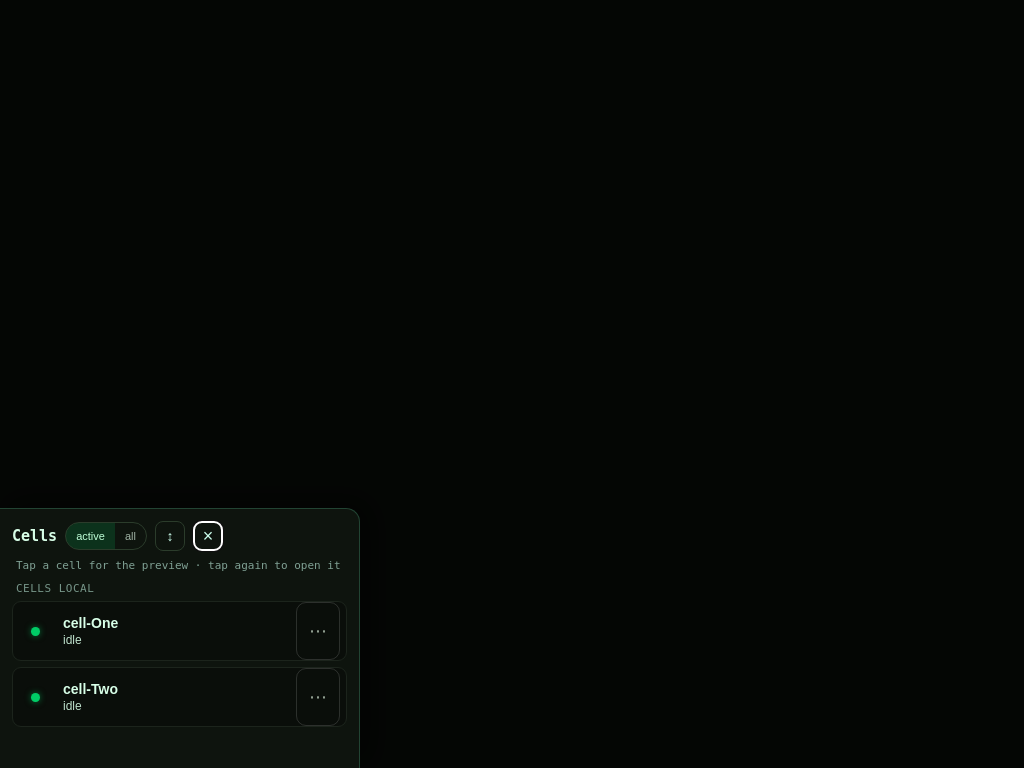
Test: CellSwitcher — i bordi del gesto e della selezione › la cella fermata ma ancora in flotta chiude l'anteprima (filtro attive)
Click the button "cell-One idle" at (176, 631), box [63, 602, 290, 660]
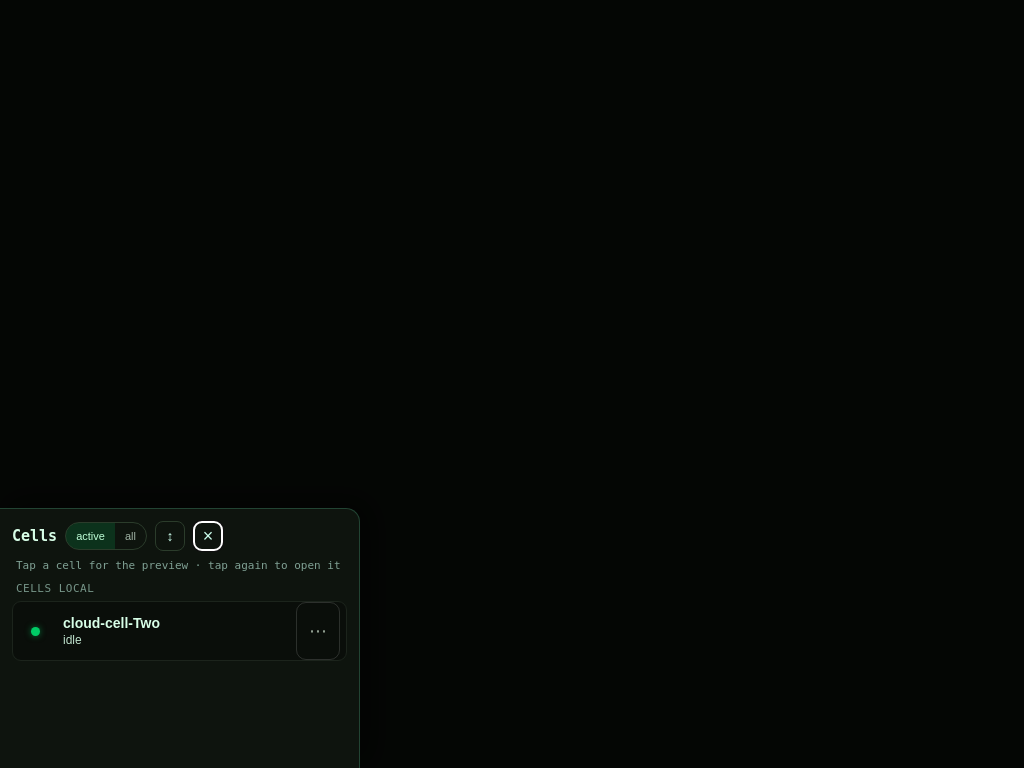
Now the button "cell-One " is gone
